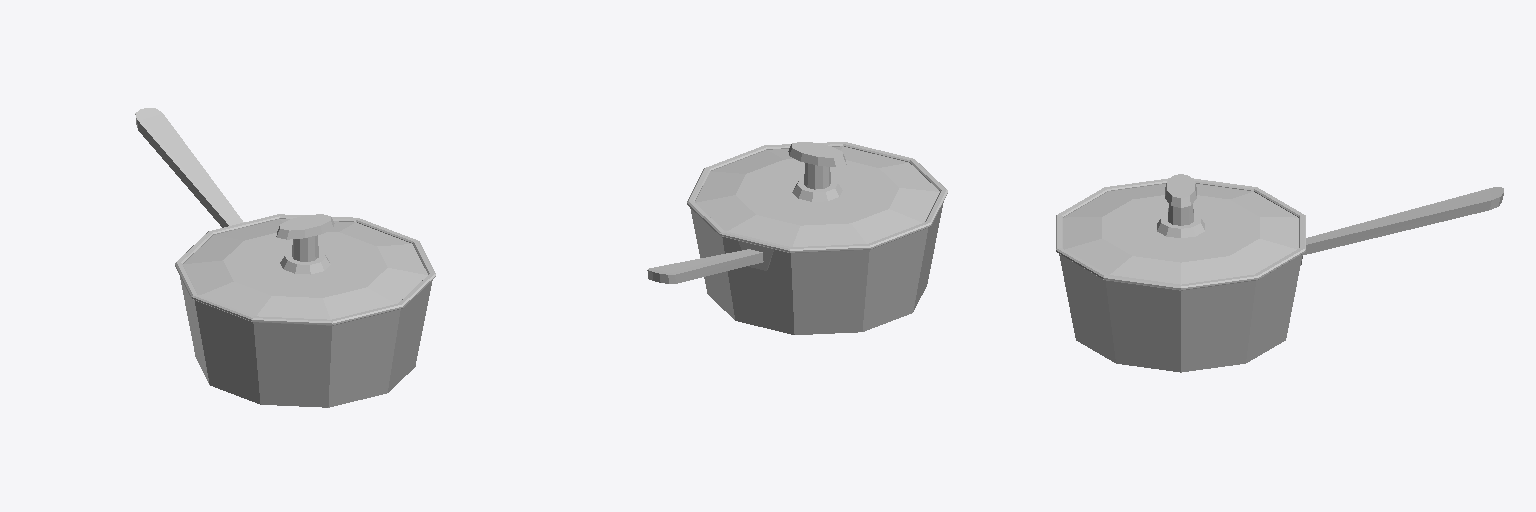
Rendered from pan_sauce_pan_large_001.obj.
3 renders of one model, left to right at view 1: azimuth 30°, elevation 25°; view 2: azimuth 150°, elevation 25°; view 3: azimuth 270°, elevation 25°, orthographic.
Visible parts, largest first — view 1: pan_sauce_pan_large_lid_Cylinder.074, pan_sauce_pan_large.001_Cylinder.073; view 2: pan_sauce_pan_large_lid_Cylinder.074, pan_sauce_pan_large.001_Cylinder.073; view 3: pan_sauce_pan_large_lid_Cylinder.074, pan_sauce_pan_large.001_Cylinder.073.
Part boxes in pixels (bbox=[...]): pan_sauce_pan_large_lid_Cylinder.074: bbox=[175, 214, 435, 325]; pan_sauce_pan_large.001_Cylinder.073: bbox=[135, 108, 432, 407]; pan_sauce_pan_large_lid_Cylinder.074: bbox=[687, 142, 947, 252]; pan_sauce_pan_large.001_Cylinder.073: bbox=[647, 202, 943, 334]; pan_sauce_pan_large_lid_Cylinder.074: bbox=[1056, 174, 1305, 290]; pan_sauce_pan_large.001_Cylinder.073: bbox=[1059, 187, 1503, 372].
Size of the model in its own units: 4.45 by 2.61 by 7.58.